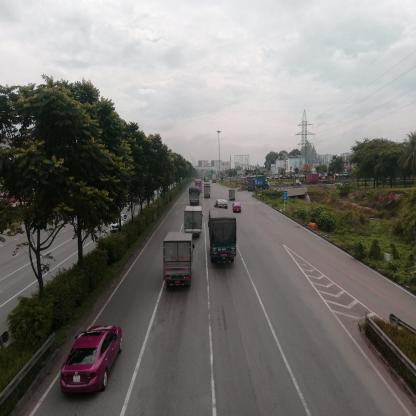bus: (197, 180, 202, 187)
car: (62, 327, 123, 393), (111, 215, 129, 232), (234, 204, 242, 215)
container: (306, 174, 338, 187), (248, 177, 270, 192)
truck: (164, 234, 197, 293), (210, 210, 237, 270), (184, 207, 204, 235), (191, 189, 201, 208), (205, 185, 213, 201), (296, 180, 303, 188)
